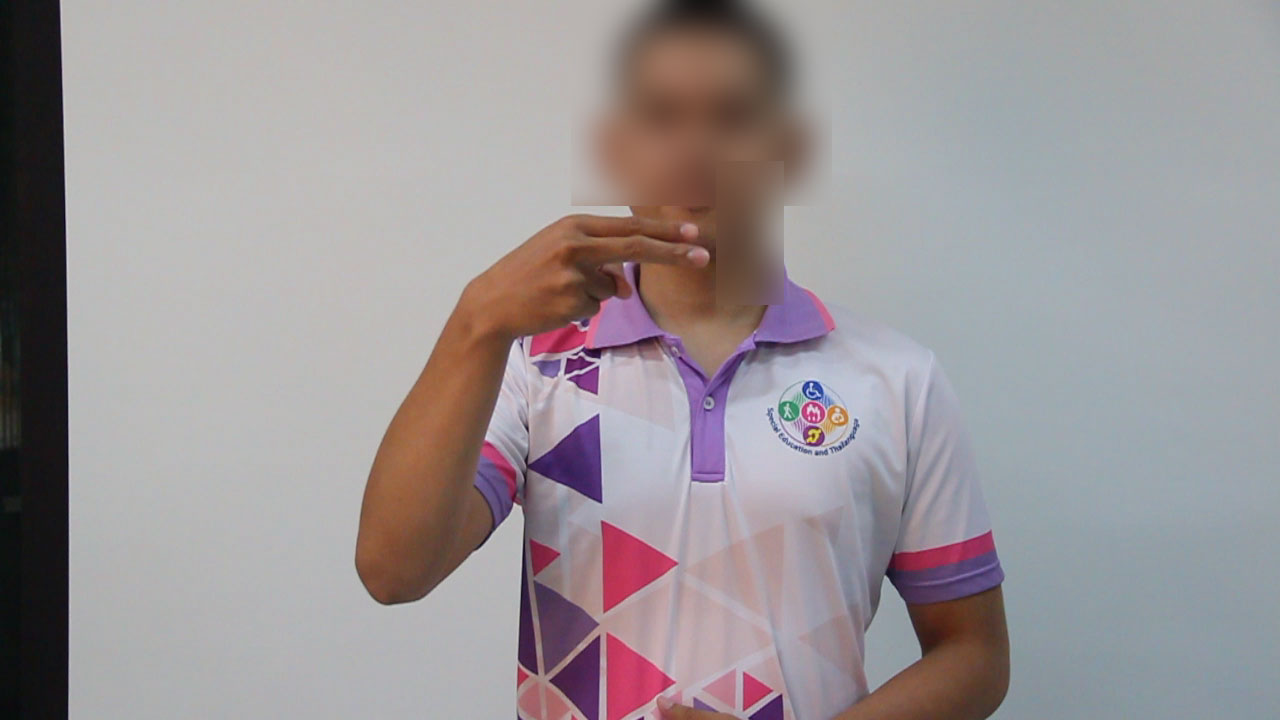hor: (437, 206, 729, 353)
